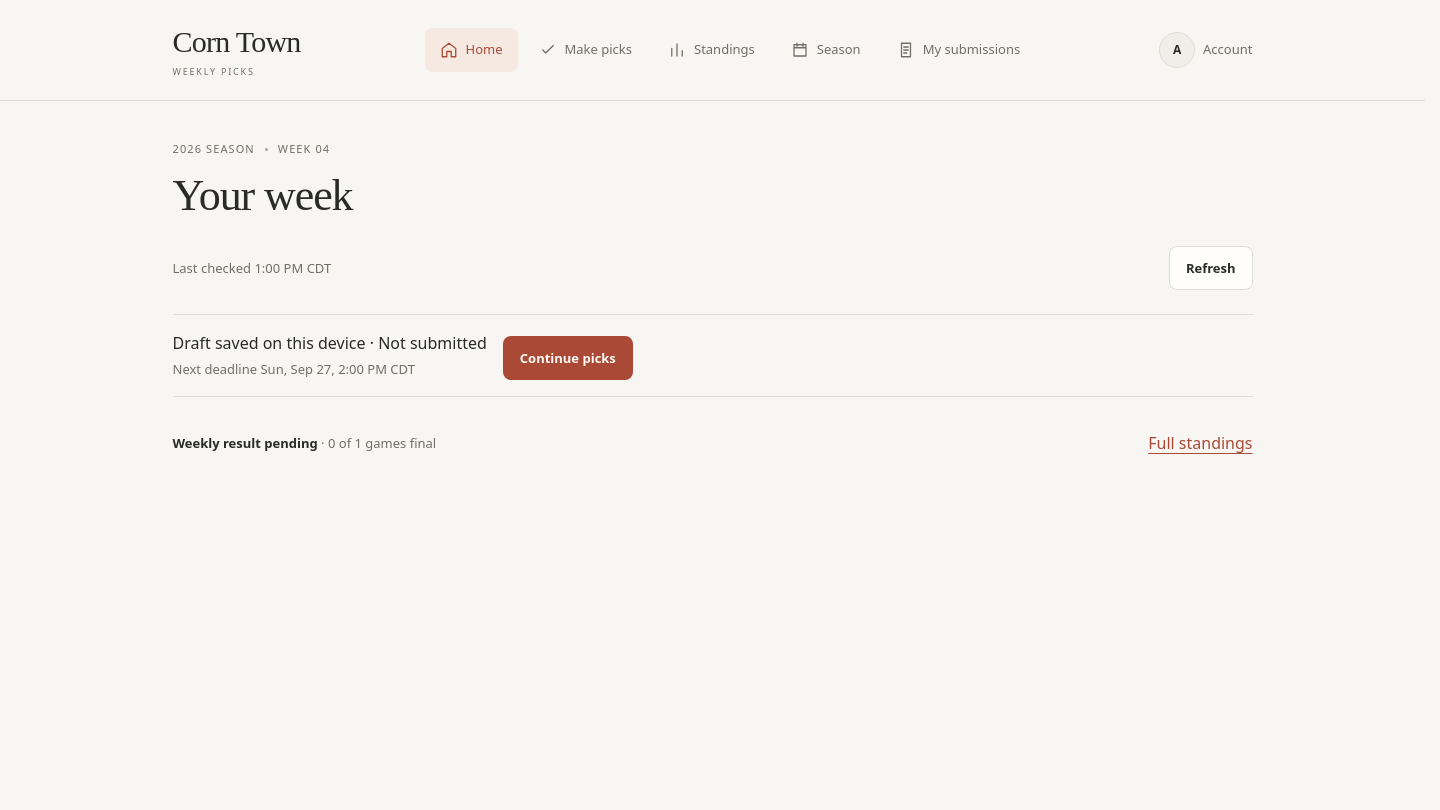
Test: personal weekly dashboard › opens Home without redirecting and continues a device draft into the current period
Expected: the heading "Your week" is shown, [172,170,352,220]
Expected: the text "Draft saved on this device · Not submitted" is shown, [172,331,487,355]
Click the link "Continue picks": [568, 358] box [503,336,633,380]
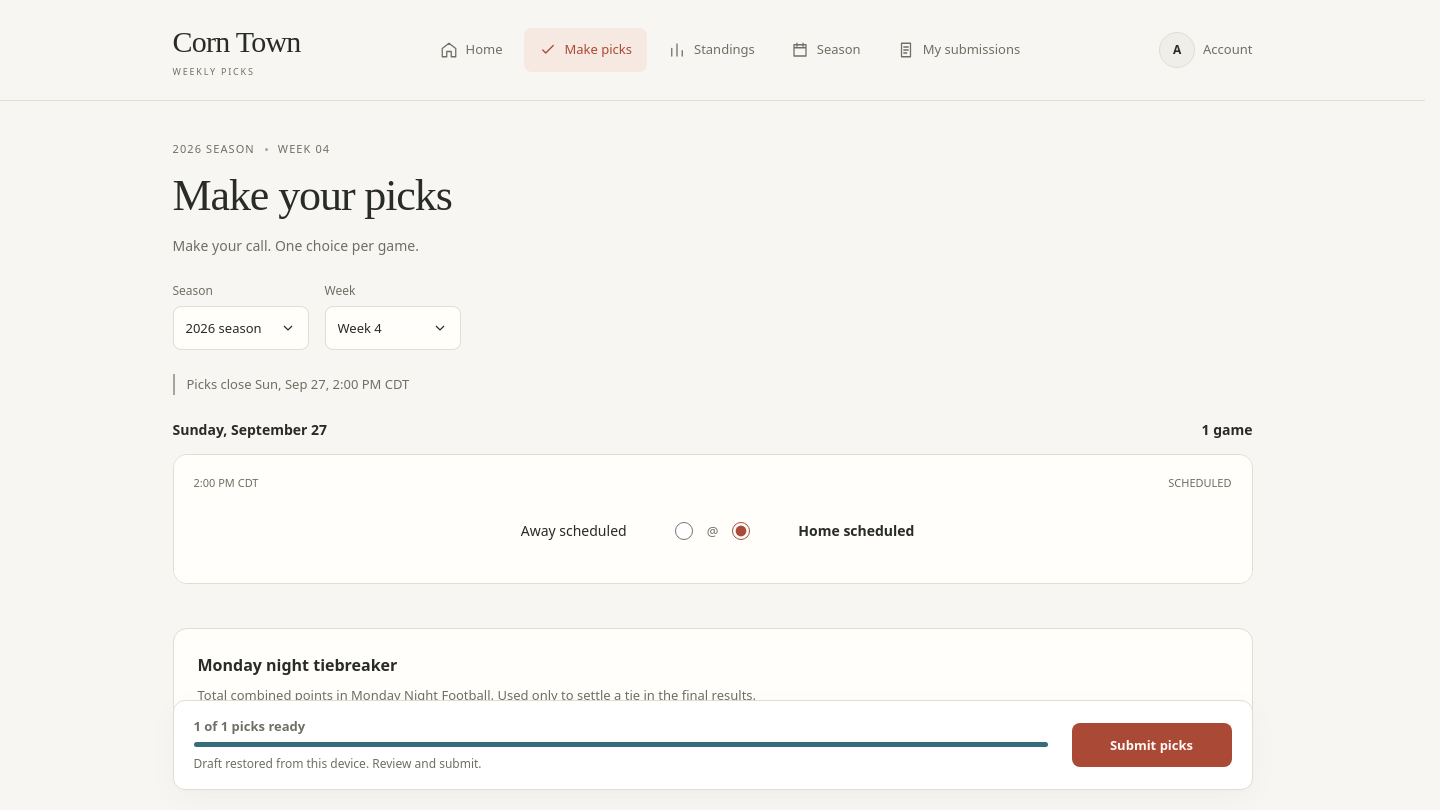
Expected: the heading "Make your picks" is shown, [172,170,452,220]
Expected: the radio button named "Home scheduled" is checked, [732,522,750,540]
